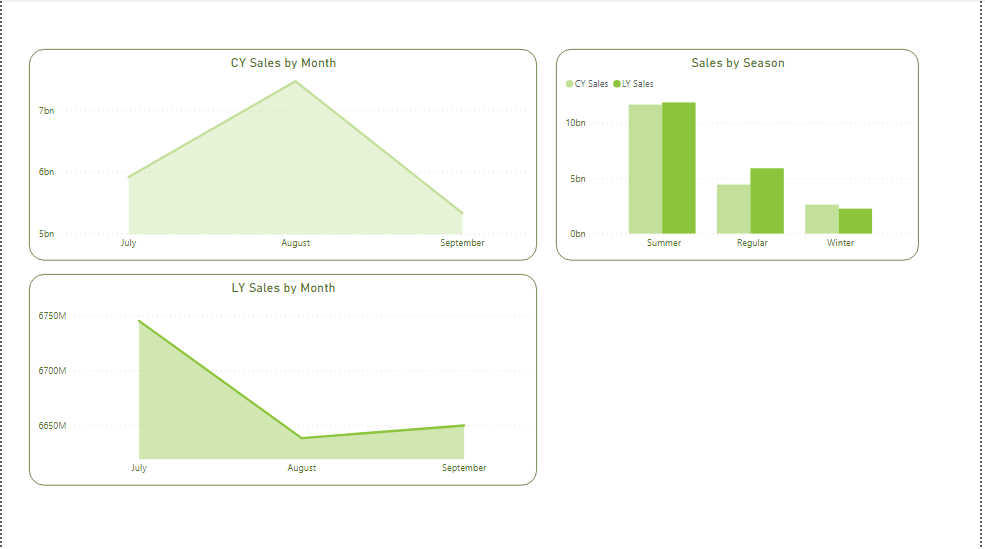

This screenshot's page, from the dashboard's own definition file:
{"tool":"powerbi","page":{"name":"Report_Page_2","canvas":[1280,720],"ordinal":1},"visuals":[{"type":"clusteredColumnChart","title":"Sales by Season","fields":{"Category":["Category.Season"],"Y":["Sales Data.CY Sales","Sales Data.LY Sales"]},"box":[725.3,66.1,474.8,276.6],"z":0},{"type":"areaChart","fields":{"Y":["Sales Data.CY Sales"],"Category":["Sales Data.Date.Variation.Date Hierarchy.Month"]},"box":[35.8,66.1,664.8,276.6],"z":1},{"type":"areaChart","fields":{"Category":["Sales Data.Date.Variation.Date Hierarchy.Month"],"Y":["Sales Data.LY Sales"]},"box":[35.8,360.6,664.8,276.6],"z":2}]}

Visuals, with their boxes in screenshot pixels (x1, y1, x2, y2), scaled from the page's 1280x720 canvas onto the 985x549 screenshot:
"Sales by Season" clusteredColumnChart: rect(558, 50, 924, 261)
areaChart - Sales Data.CY Sales x Sales Data.Date.Variation.Date Hierarchy.Month: rect(28, 50, 539, 261)
areaChart - Sales Data.Date.Variation.Date Hierarchy.Month x Sales Data.LY Sales: rect(28, 275, 539, 486)
